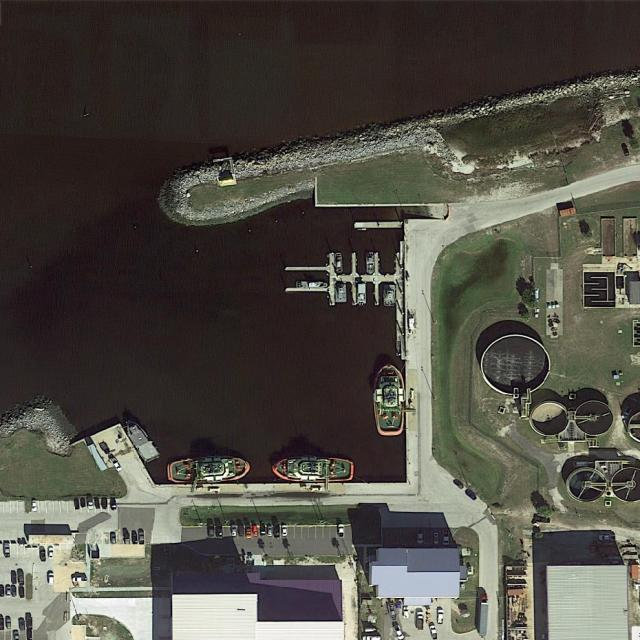Hovercraft: (372, 361, 406, 435), (167, 454, 250, 484), (271, 455, 355, 482)
Other Warship: (121, 416, 162, 465)
